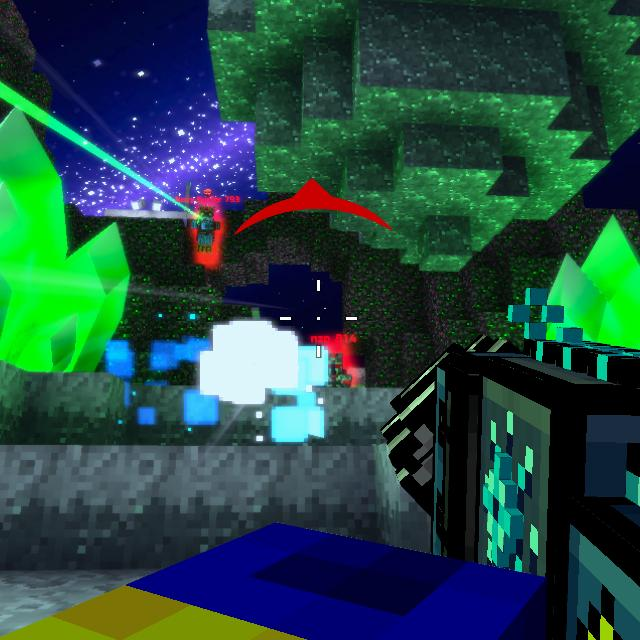Enemy: (192, 205, 222, 253), (331, 351, 353, 386)
